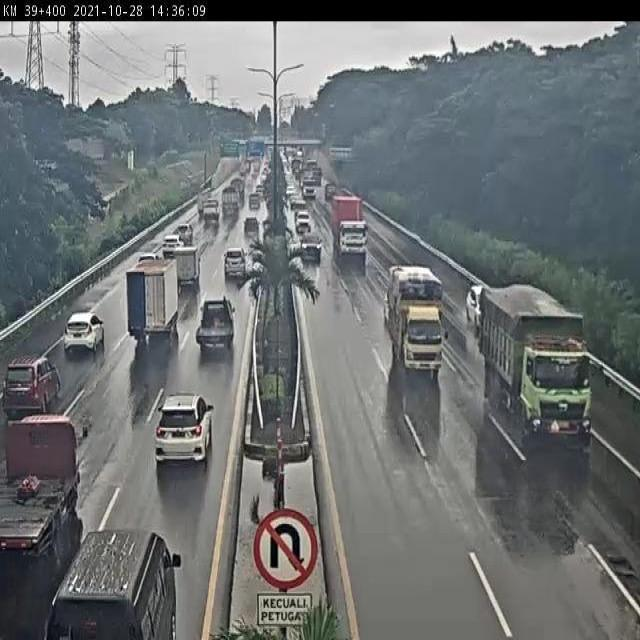car: (46, 528, 189, 640), (145, 383, 220, 485), (0, 353, 67, 412), (191, 293, 241, 360), (51, 307, 107, 359), (465, 273, 487, 324), (297, 227, 323, 261), (219, 256, 245, 288), (241, 219, 258, 248), (293, 210, 314, 226), (169, 229, 186, 247), (133, 249, 153, 263), (156, 347, 157, 357)
truck: (1, 420, 96, 591), (479, 275, 582, 424), (380, 262, 455, 386), (119, 263, 176, 363), (340, 211, 383, 267), (161, 262, 193, 298)
